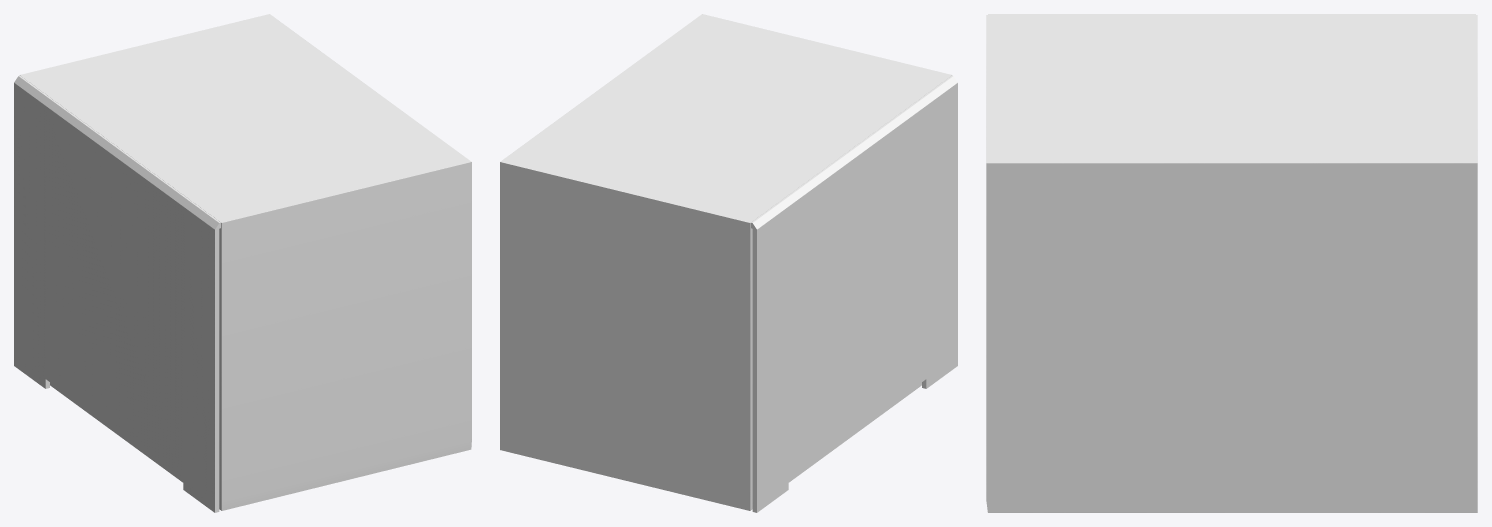
Rendered from 5.56x45 close.fbx.
The picture shows the model from 3 angles, left to right: view 1: azimuth 30°, elevation 25°; view 2: azimuth 150°, elevation 25°; view 3: azimuth 270°, elevation 25°; orthographic projection. The views are drawn at different scales.
Parts seen in each view (by area): view 1: 5_56x45; view 2: 5_56x45; view 3: 5_56x45.
Part boxes in pixels (box(x1,y1,x2,y2)): 5_56x45: box(14, 14, 471, 512); 5_56x45: box(500, 14, 957, 512); 5_56x45: box(986, 14, 1477, 512).
Bounding box in the file's own units: 5.12 × 5.52 × 7.
1 material, 1 textured.
